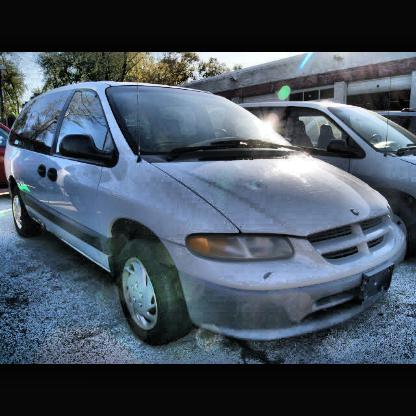Dodge Caravan Minivan 1997: (8, 83, 407, 345)
